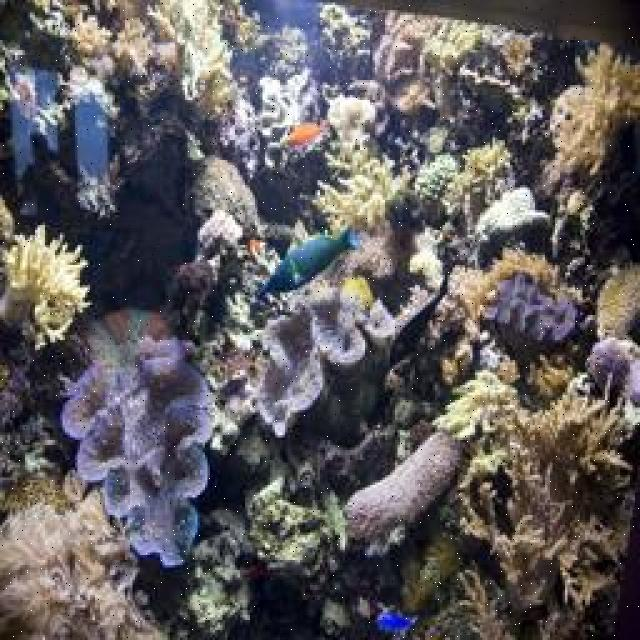fish: (254, 216, 365, 295)
reefs: (412, 346, 638, 638), (57, 332, 220, 569), (306, 82, 516, 253), (0, 0, 263, 134), (0, 479, 160, 638), (256, 288, 401, 447), (534, 37, 638, 212), (0, 195, 96, 354), (483, 274, 576, 367)
